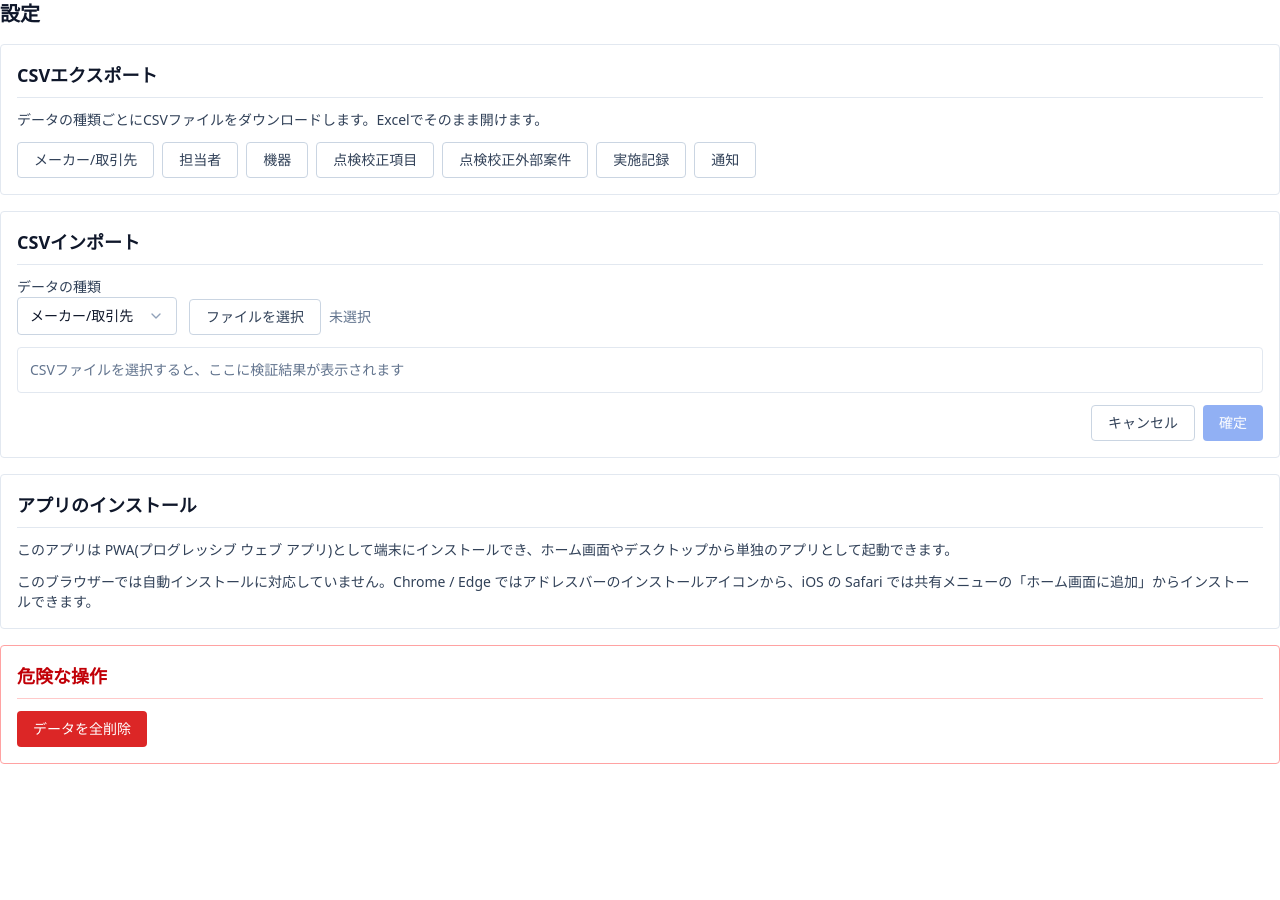
Test: データ全削除(§11、D-031) › チェック後にキャンセルして再度開くと、チェックは外れ[削除]は非活性に戻る
What coordinates should you click on to do the following:
click the button "データを全削除"
I would click on:
 (82, 729)
Its box is [17,711,147,747].
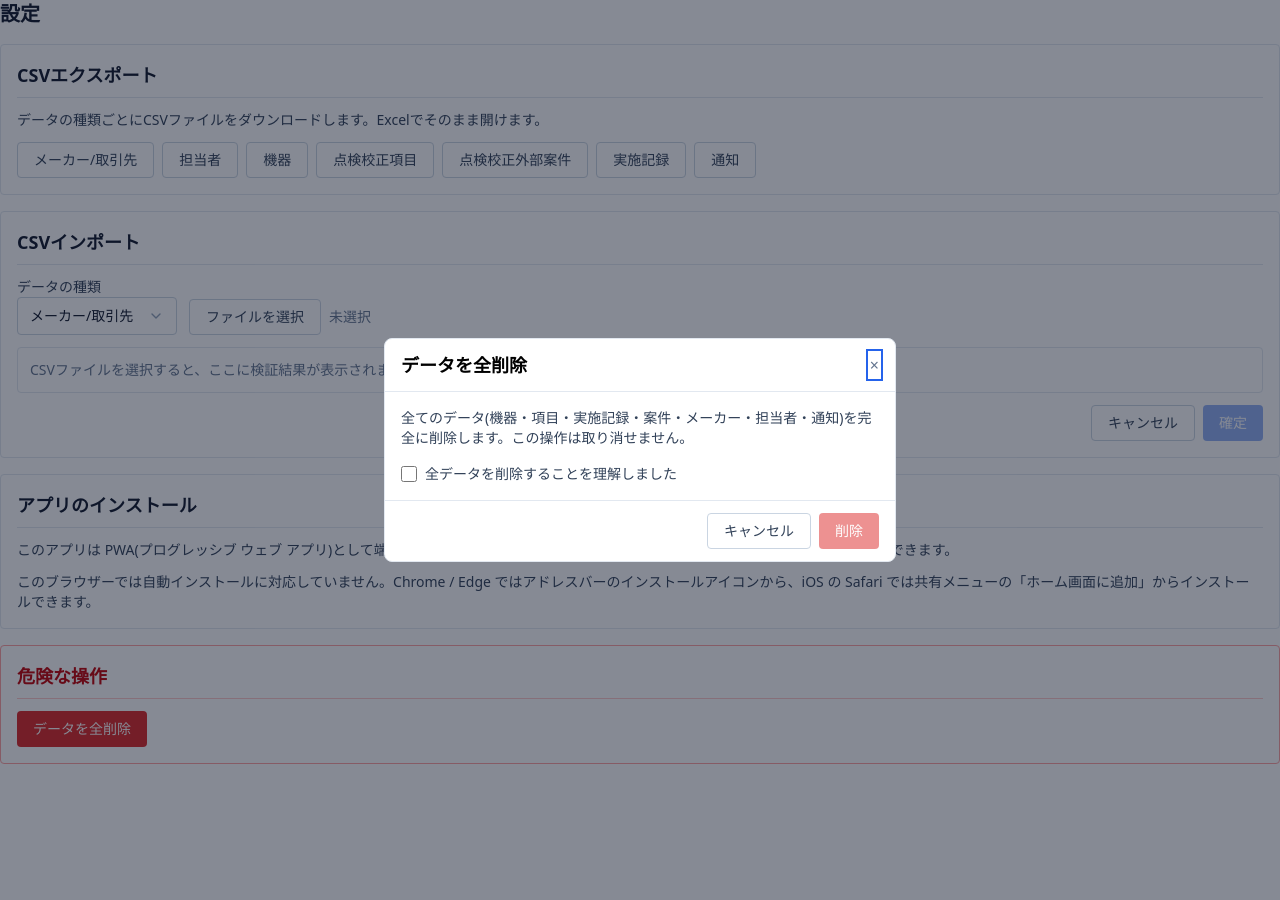
What coordinates should you click on to do the following:
click the checkbox labelled "全データを削除することを理解しました"
I would click on:
 (409, 474)
Its box is [401,466,417,482].
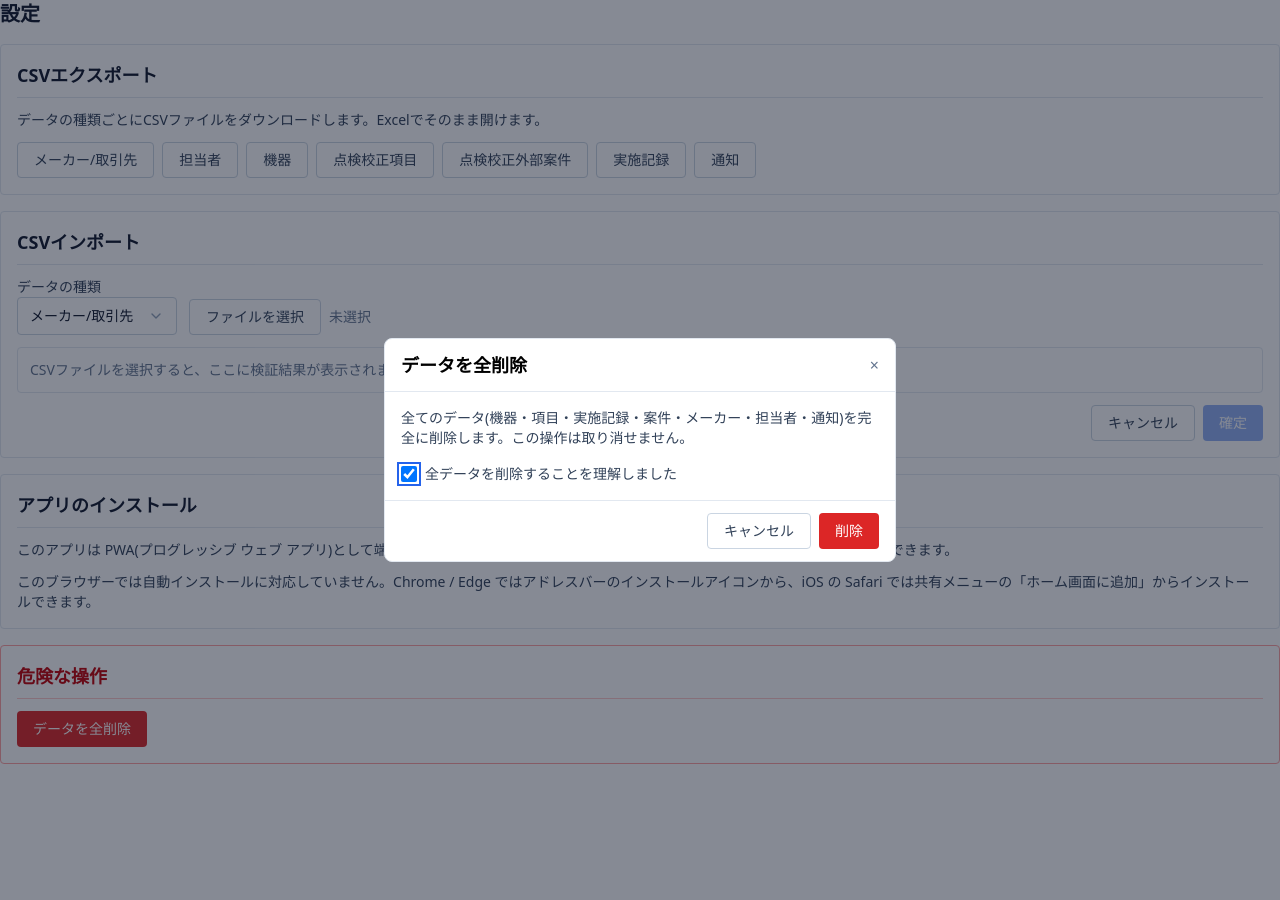
Expected: the button "削除" is enabled, [819,513,879,549]
# なぜ within か: CSVインポート側にも「キャンセル」ボタンがあるためダイアログ内に限定する
What coordinates should you click on to do the following:
click the button "キャンセル"
I would click on:
 (759, 531)
Its box is [707,513,811,549].
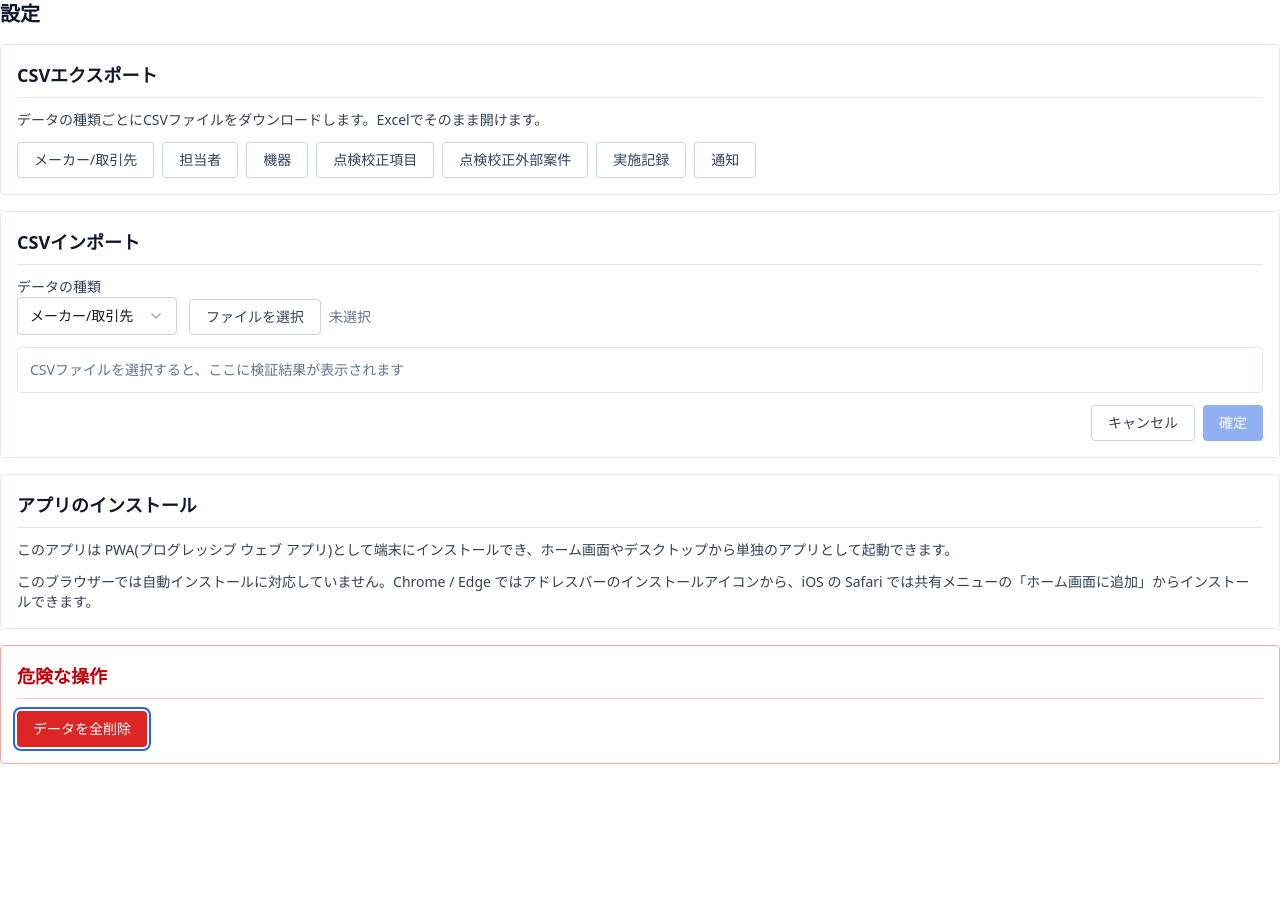
What coordinates should you click on to do the following:
click the button "データを全削除"
I would click on:
 (82, 729)
Its box is [17,711,147,747].
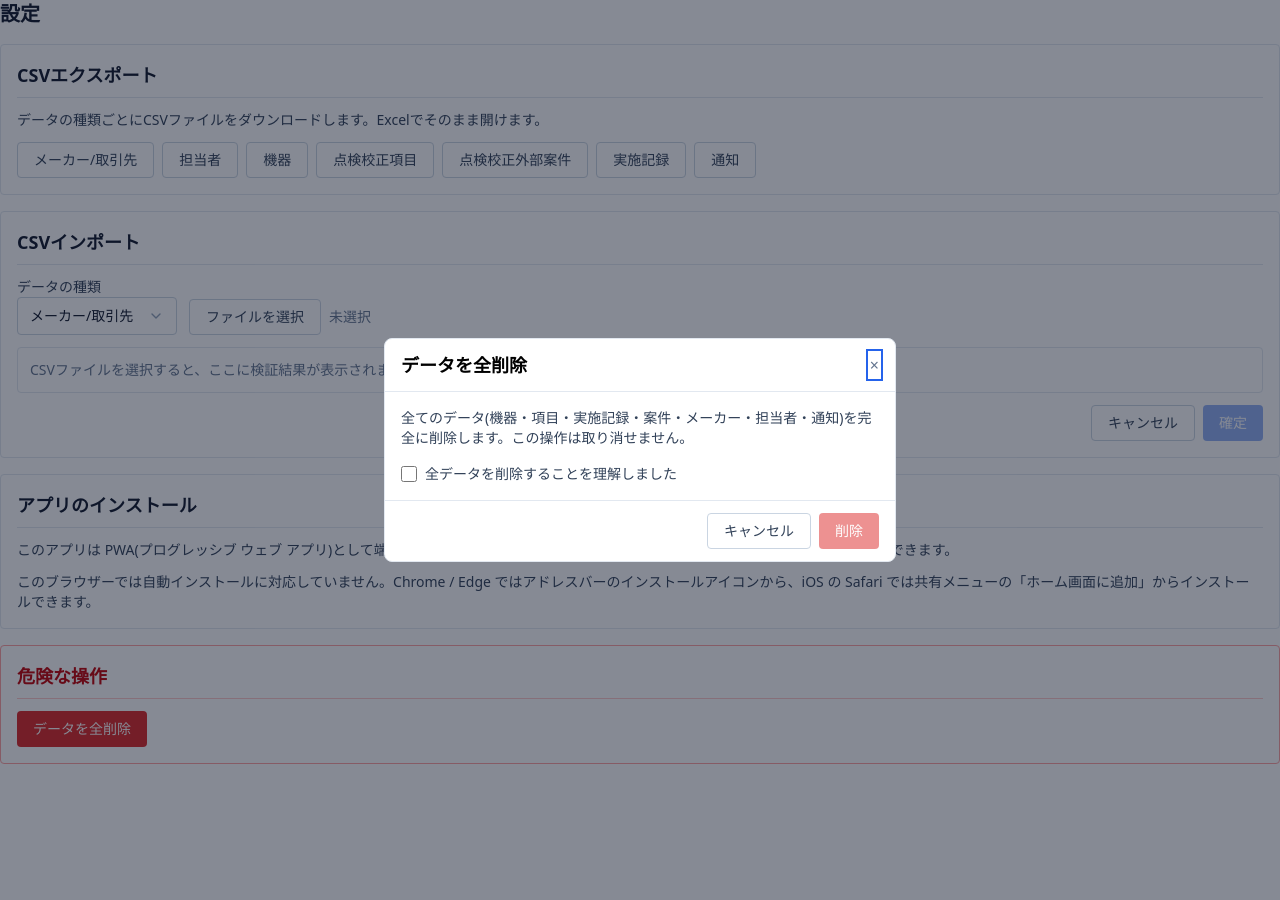
Expected: the checkbox labelled "全データを削除することを理解しました" is not checked, [401,466,417,482]
Expected: the button "削除" is disabled, [819,513,879,549]
